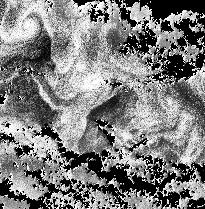CE: (16, 9, 47, 36)
